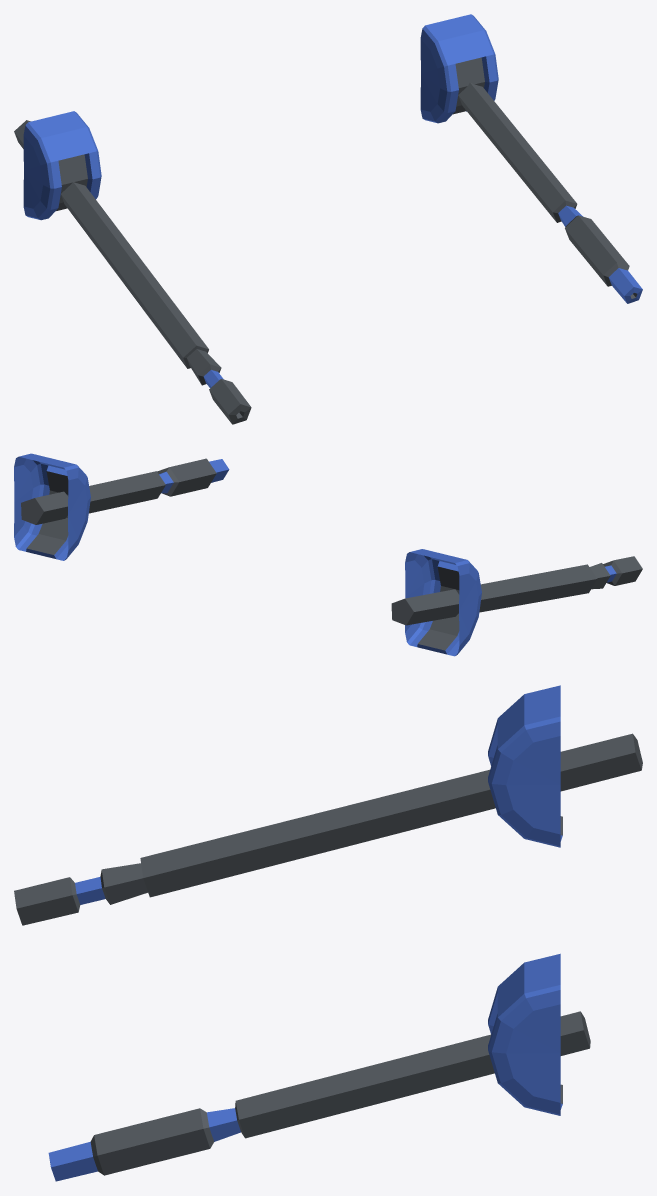
File: Dropship_05_Secondary_Artillery_Blue.fbx
3 renders of one model, top to bottom at view 1: azimuth 30°, elevation 25°; view 2: azimuth 150°, elevation 25°; view 3: azimuth 270°, elevation 25°, orthographic. The views are drawn at different scales.
Parts seen in each view (by area): view 1: Dropship_05_Secondary_Artillery_Blue; view 2: Dropship_05_Secondary_Artillery_Blue; view 3: Dropship_05_Secondary_Artillery_Blue.
Part boxes in pixels (bbox=[...]): Dropship_05_Secondary_Artillery_Blue: bbox=[14, 14, 642, 424]; Dropship_05_Secondary_Artillery_Blue: bbox=[14, 453, 642, 656]; Dropship_05_Secondary_Artillery_Blue: bbox=[14, 685, 642, 1181].
Bounding box in the file's own units: 307 × 106 × 267.
Materials: 1 (1 with a texture image).
